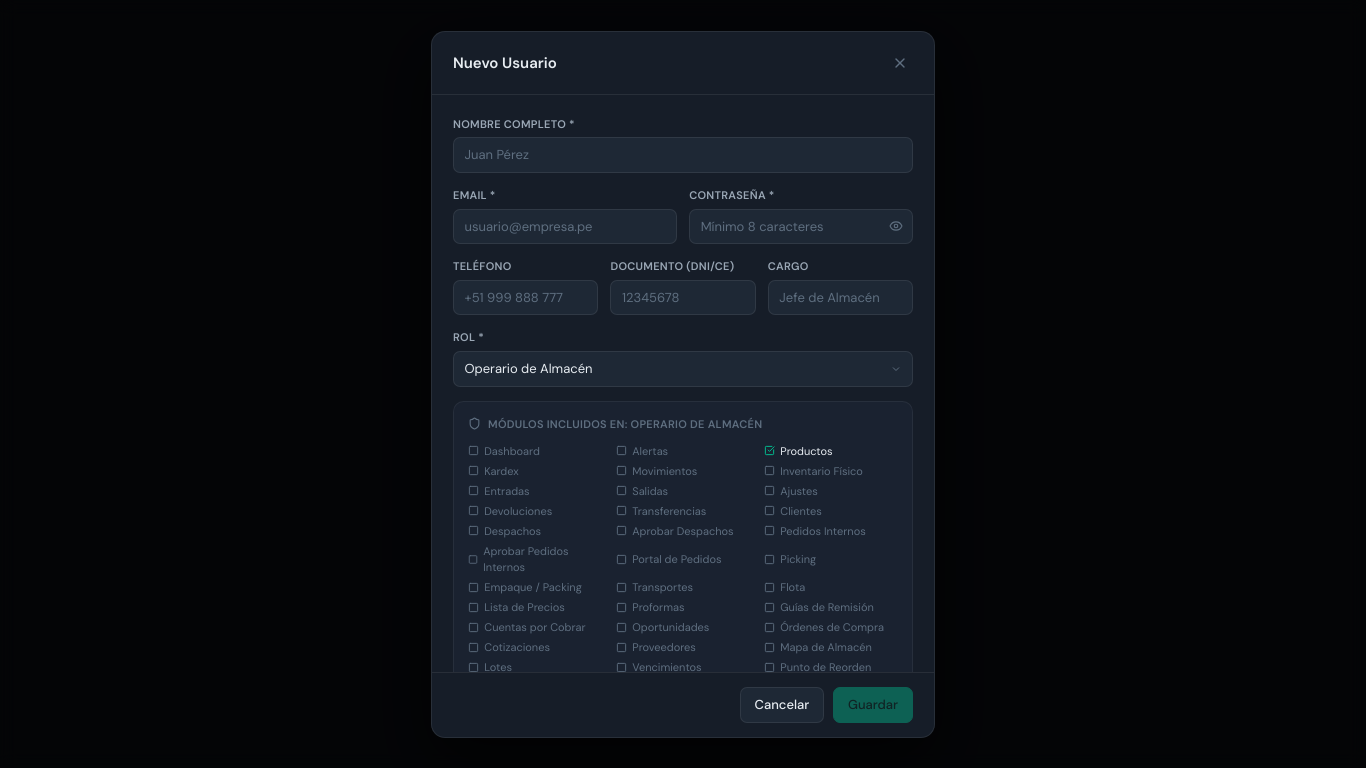
Test: ModalUsuario › un rol con permisos "*" muestra "Acceso completo a todos los módulos"
Select "Superoperador" in the dropdown at (683, 368), box [453,351,913,386]
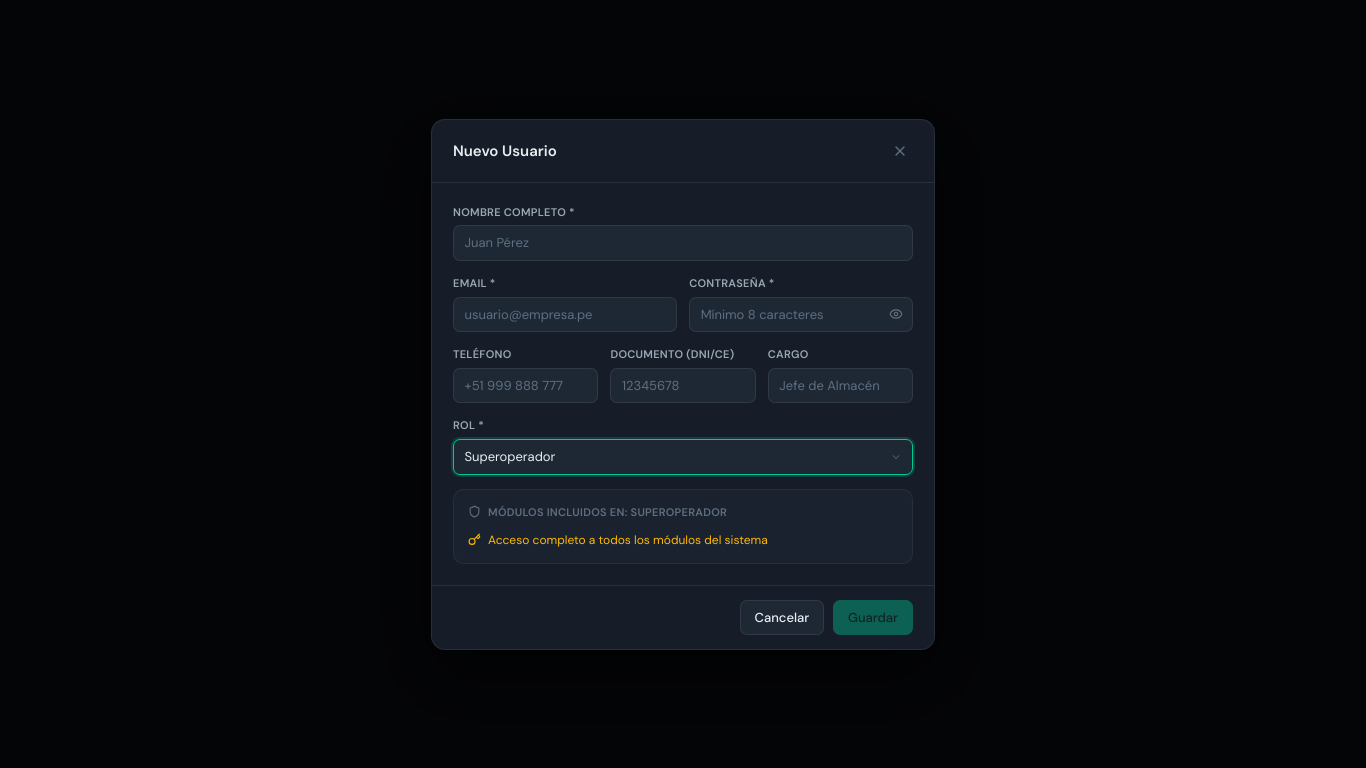
Check: the text "Acceso completo a todos los módulos del sistema" is shown, box [468,531,768,547]
